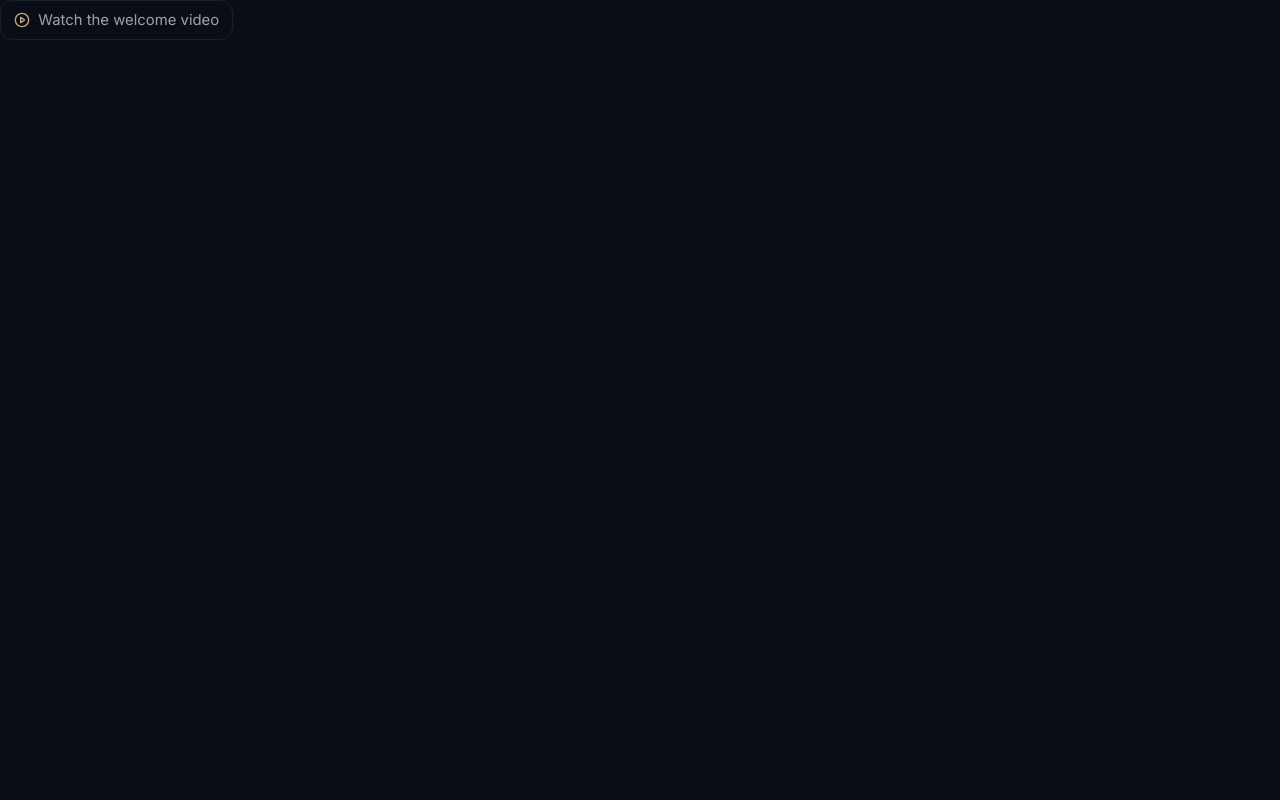
Test: WelcomeVideoCard › opens a hidden video again from a single line, without un-hiding it
What coordinates should you click on to do the following:
click the button "Watch the welcome video"
I would click on:
 (116, 20)
Its box is [0,0,233,40].
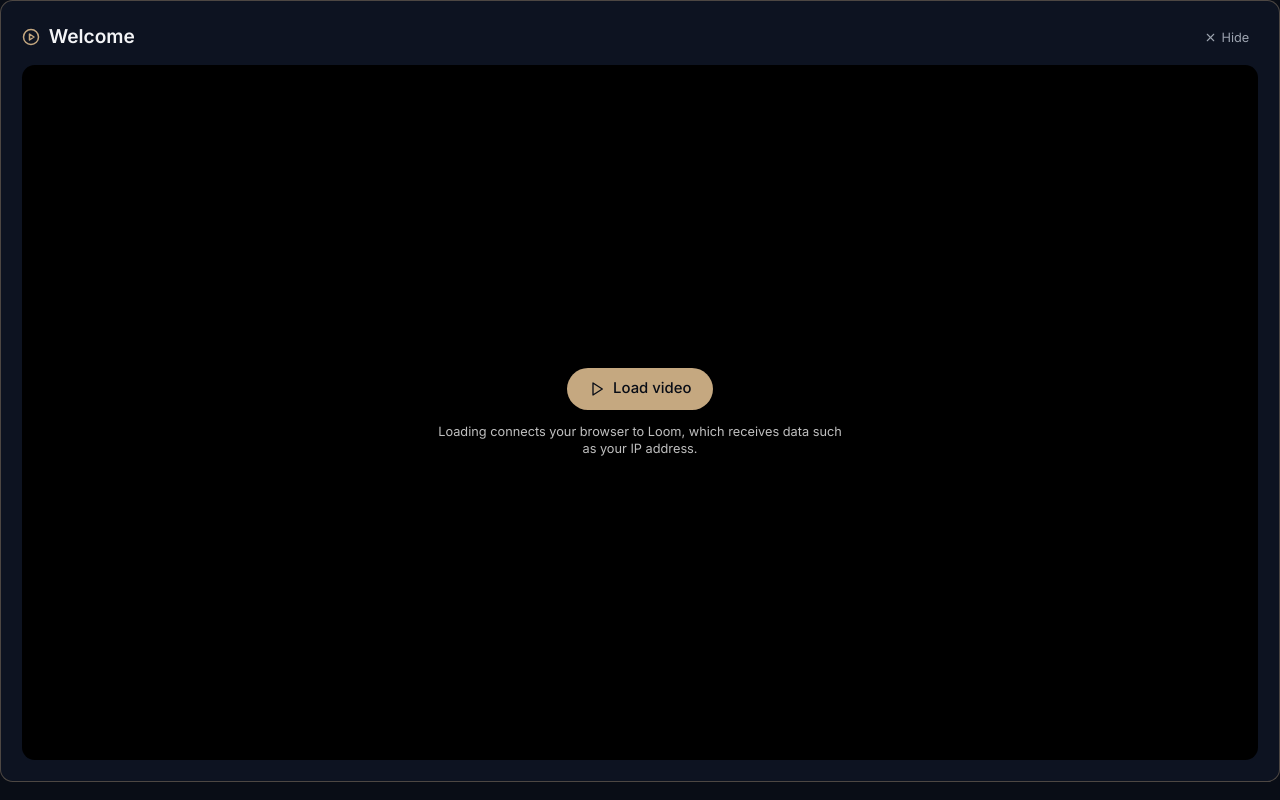
Expected: the button "Load video" is shown, [567,368,713,410]
What coordinates should you click on to do the following:
click the button "Hide"
I would click on:
 (1227, 37)
Its box is [1196,24,1258,50].
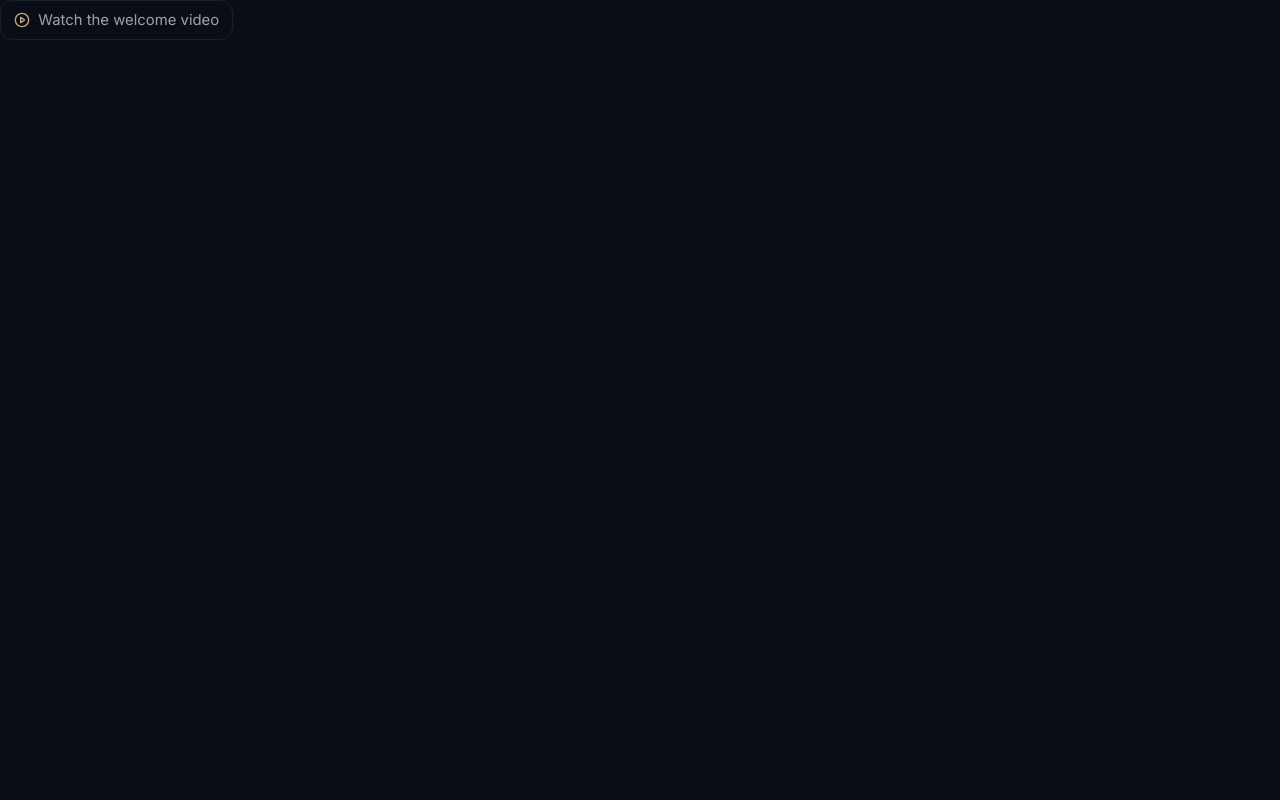
Expected: the button "Load video" is gone
Expected: the button "Watch the welcome video" is shown, [0,0,233,40]
